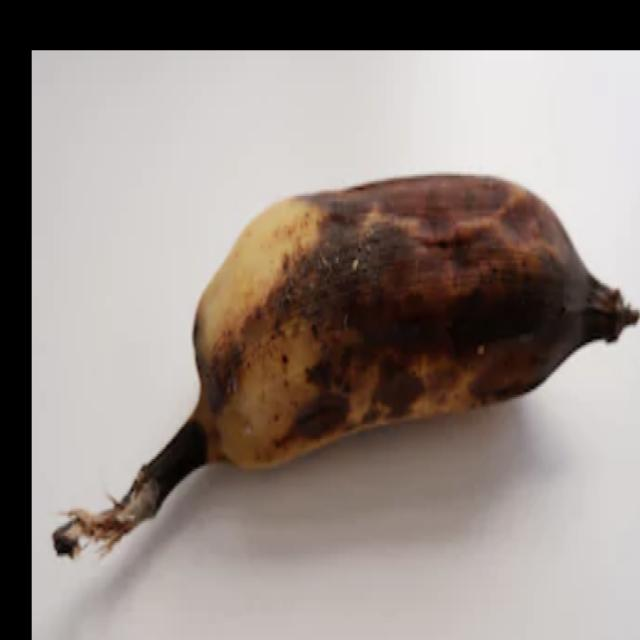Rotten: (45, 156, 640, 587)
